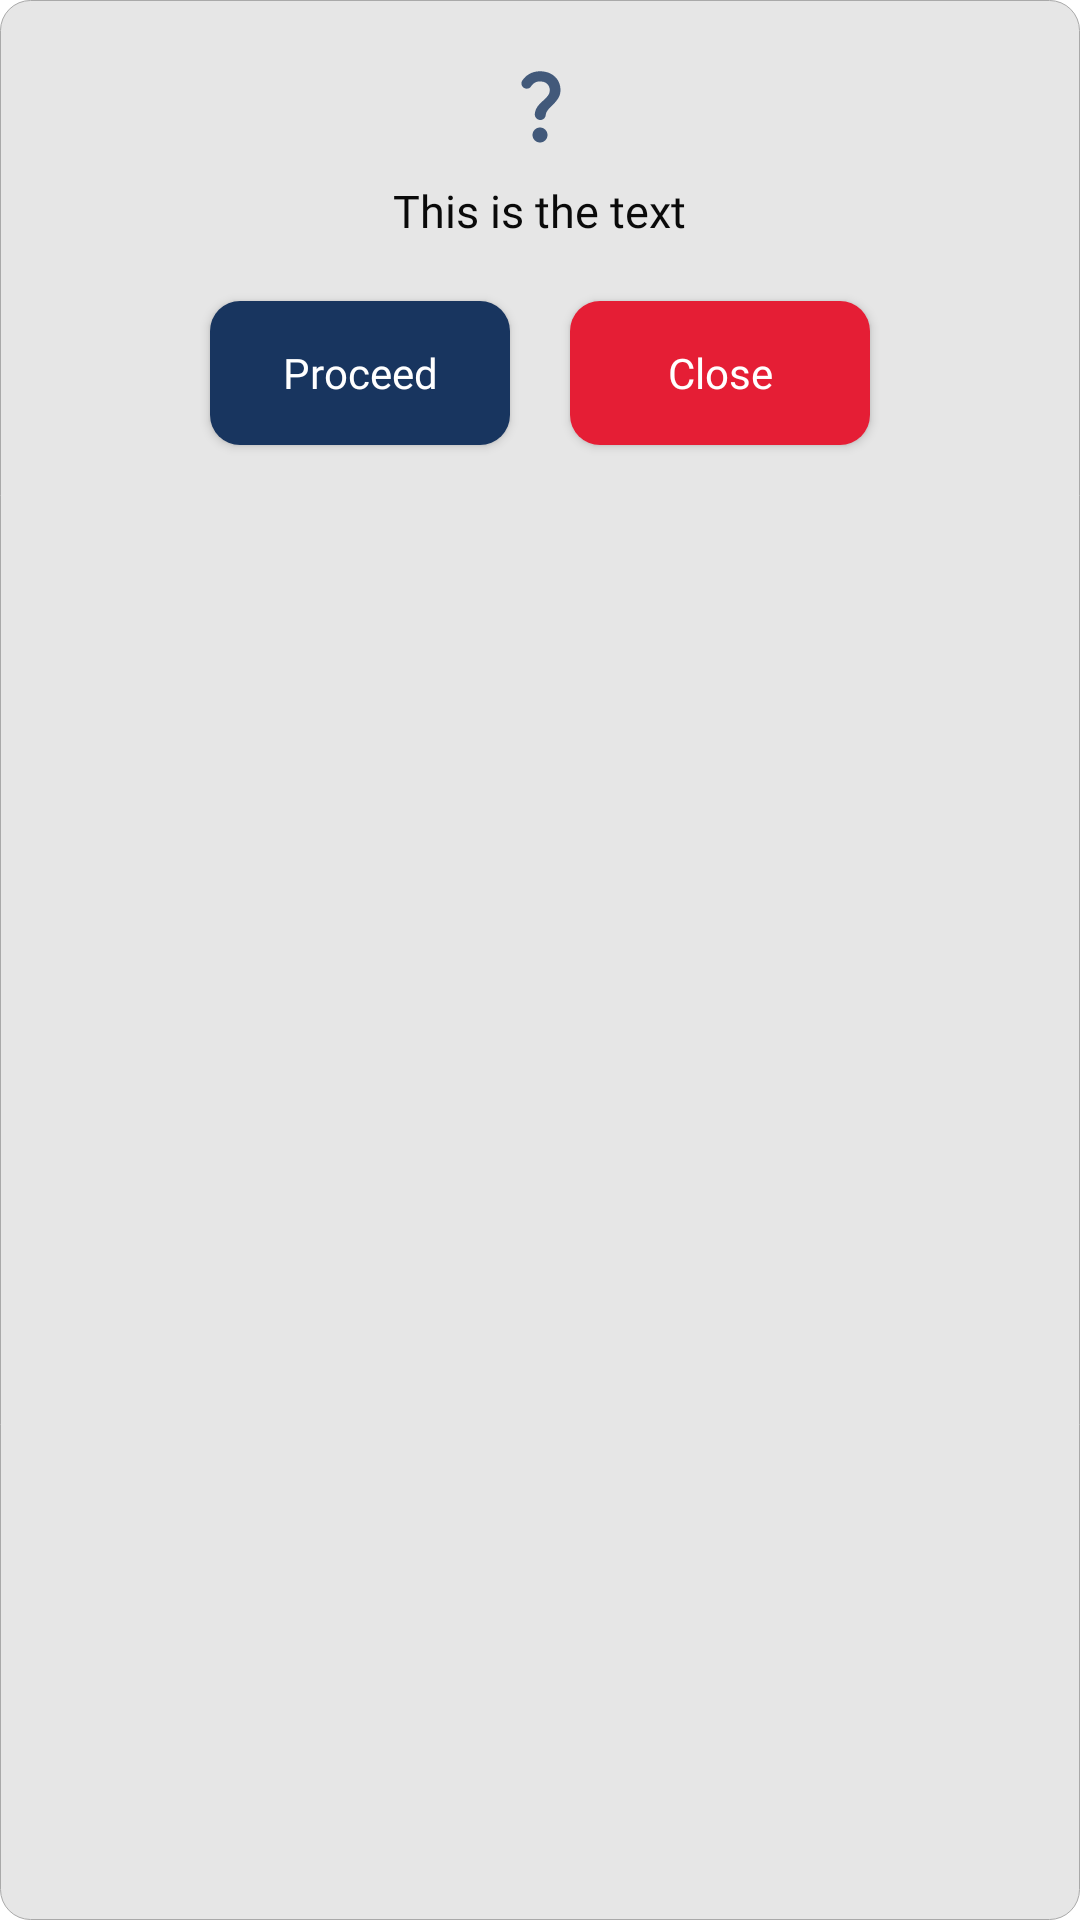

Where icons sit on this 1080px×1920px app screen, as (x1, y1, x2, y2):
question: (521, 71, 561, 143)
